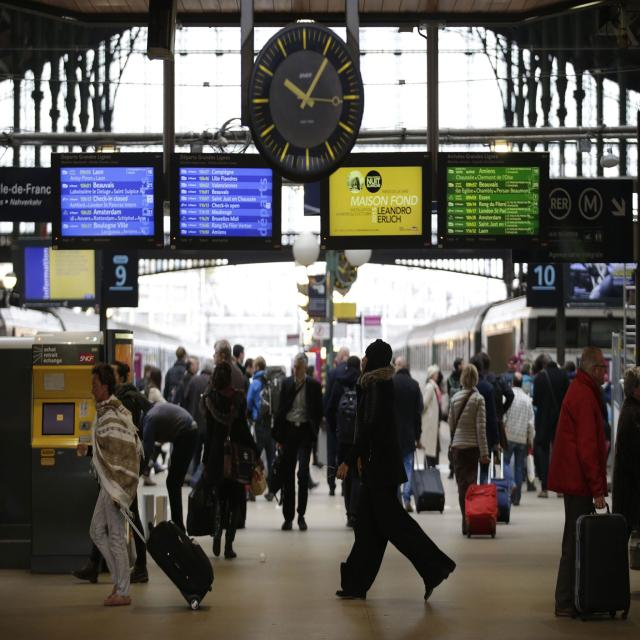body: (331, 339, 456, 604), (68, 358, 150, 584), (544, 345, 610, 623), (76, 361, 145, 607), (184, 360, 253, 560), (272, 352, 324, 530), (132, 399, 198, 535), (445, 362, 490, 536), (608, 363, 640, 593), (324, 355, 364, 529), (531, 352, 571, 499), (392, 355, 424, 513), (502, 371, 535, 505), (322, 346, 351, 496), (468, 354, 500, 484), (246, 356, 276, 480), (478, 351, 514, 453), (307, 341, 326, 492), (445, 355, 466, 480), (420, 364, 442, 471), (183, 358, 215, 427), (602, 351, 626, 439), (212, 338, 246, 392), (163, 347, 187, 403), (138, 353, 164, 402), (500, 354, 521, 387), (182, 356, 200, 387), (516, 348, 534, 378), (560, 349, 576, 378), (432, 362, 444, 396), (233, 344, 245, 376), (242, 354, 256, 376)
